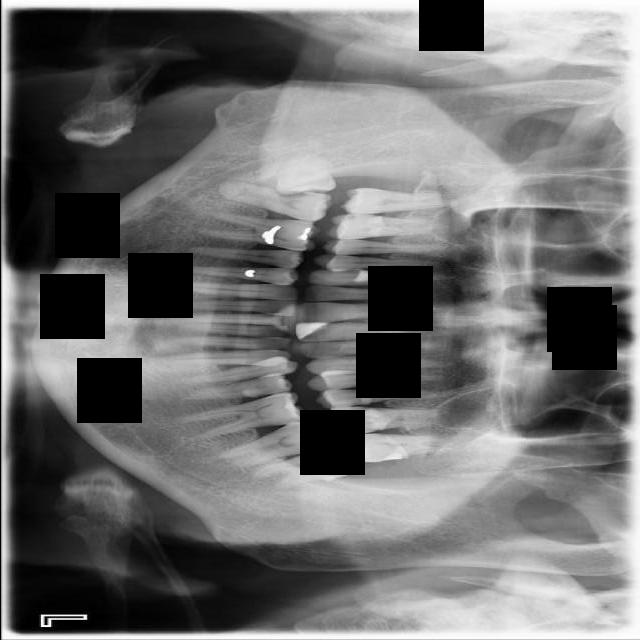52: (269, 410, 328, 469), (342, 429, 410, 467), (264, 217, 319, 252), (325, 406, 388, 435), (257, 391, 306, 428), (326, 214, 384, 241), (306, 356, 375, 374), (244, 264, 298, 287), (314, 388, 370, 410), (296, 322, 353, 343), (310, 270, 376, 286), (272, 190, 308, 200), (339, 215, 356, 221)
73: (25, 616, 35, 624)
BioHorizons Implant: (343, 433, 462, 463)
Biomet 3i Implant: (244, 442, 356, 495)
Blue Sky Bio Implant: (211, 416, 328, 472)
Caries: (338, 184, 464, 215)
Implant: (212, 179, 334, 225)
Keystone Dental Implant: (276, 149, 338, 198)
